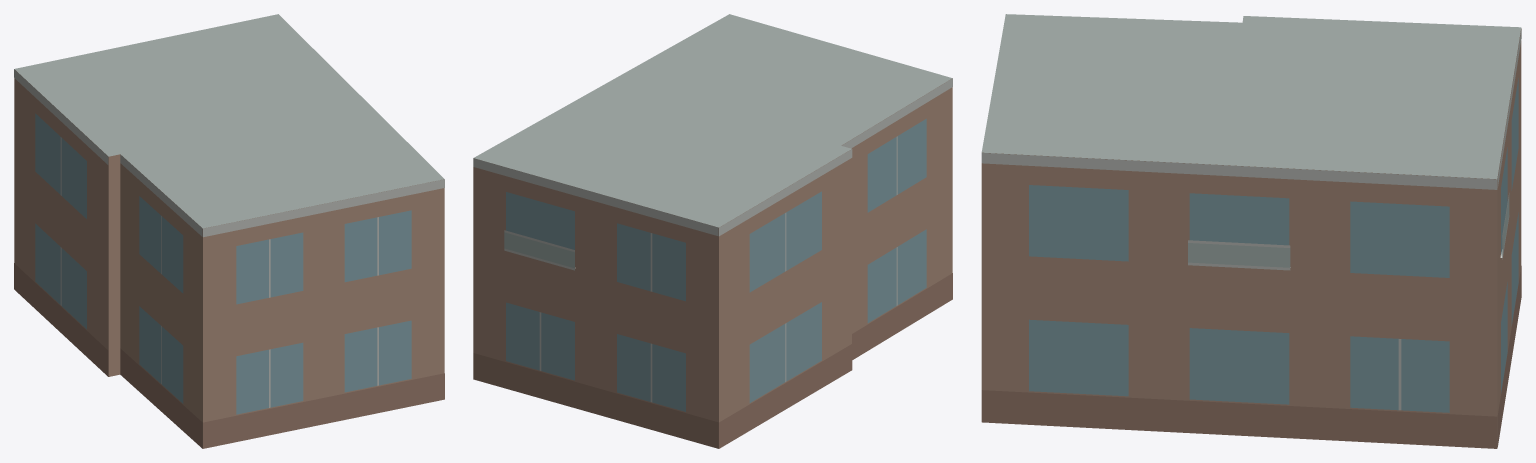
Rendered from survey-upis-33010559.glb.
The picture shows the model from 3 angles, left to right: view 1: azimuth 30°, elevation 25°; view 2: azimuth 150°, elevation 25°; view 3: azimuth 270°, elevation 25°; orthographic projection. The views are drawn at different scales.
Visible parts, largest first — view 1: survey-upis-33010559.tmp; view 2: survey-upis-33010559.tmp; view 3: survey-upis-33010559.tmp.
Boxes of the visible parts, <box> form: survey-upis-33010559.tmp: <box>14,14,444,448</box>; survey-upis-33010559.tmp: <box>473,14,952,448</box>; survey-upis-33010559.tmp: <box>981,14,1521,448</box>.
Bounding box in the file's own units: 8.02 × 6.1 × 11.08.
